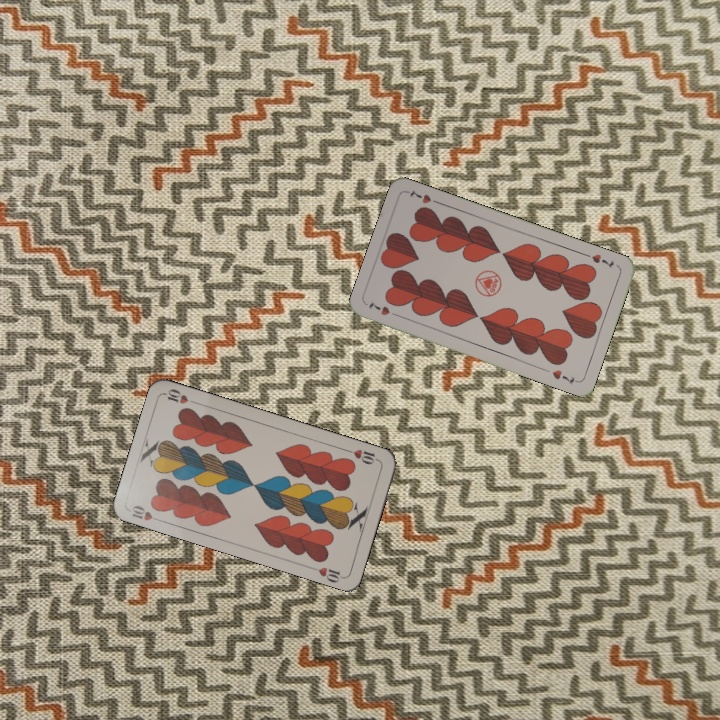H10: (128, 501, 165, 525), (342, 445, 382, 467)
H7: (363, 297, 402, 320), (581, 250, 616, 271)
